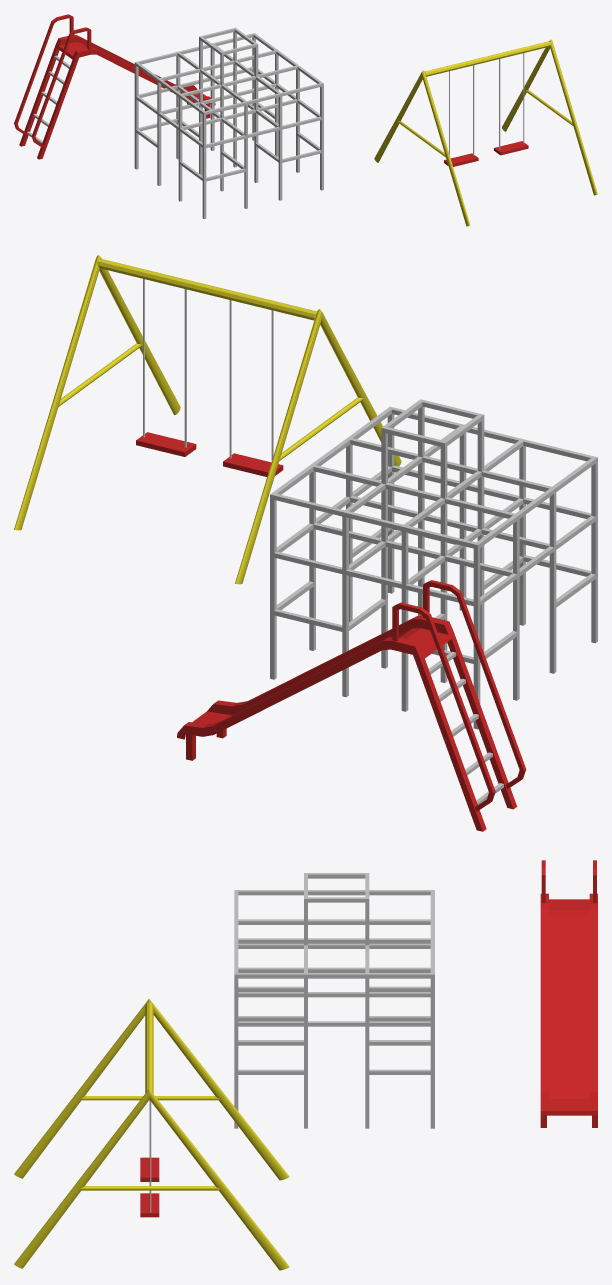
Rendered from park.obj.
The picture shows the model from 3 angles, top to bottom: view 1: azimuth 30°, elevation 25°; view 2: azimuth 150°, elevation 25°; view 3: azimuth 270°, elevation 25°; orthographic projection. The views are drawn at different scales.
Parts seen in each view (by area): view 1: park:Mesh; view 2: park:Mesh, group1 pasted__pCube1, pCube1; view 3: park:Mesh.
Part boxes in pixels (bbox=[...]): park:Mesh: bbox=[14, 14, 597, 226]; park:Mesh: bbox=[14, 255, 597, 831]; group1 pasted__pCube1: bbox=[136, 432, 196, 456]; pCube1: bbox=[223, 453, 283, 476]; park:Mesh: bbox=[14, 860, 597, 1270].
Bounding box in the file's own units: 3.14 × 1.11 × 2.85.
